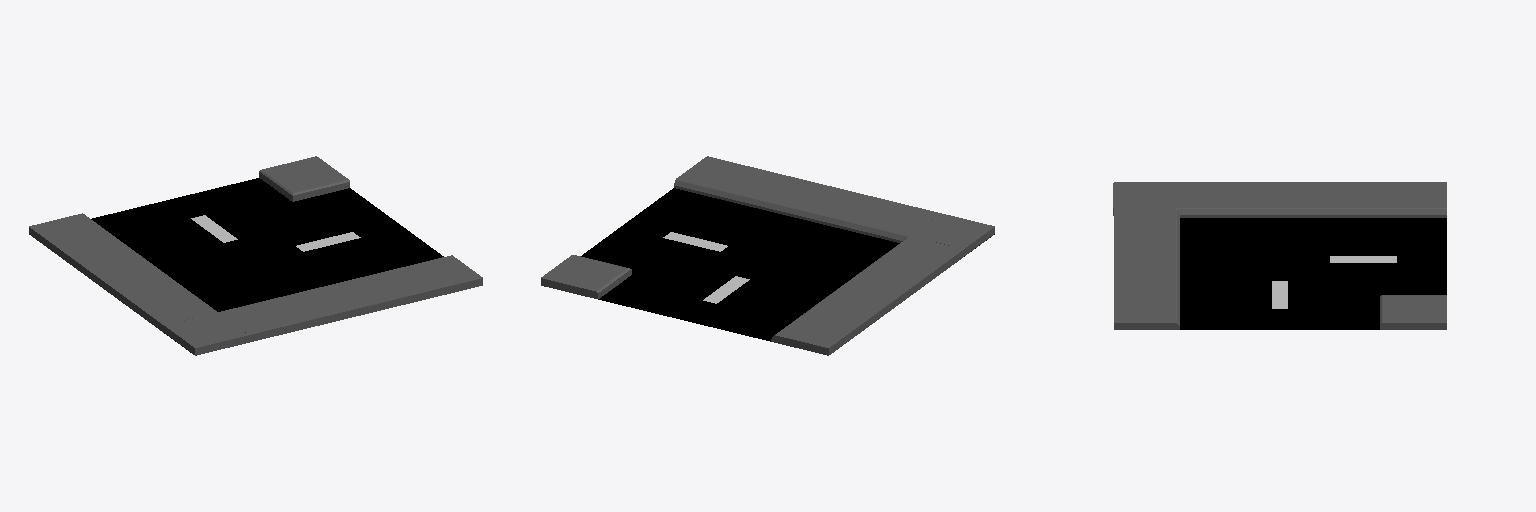
File: street_turn.obj
3 renders of one model, left to right at view 1: azimuth 30°, elevation 25°; view 2: azimuth 150°, elevation 25°; view 3: azimuth 270°, elevation 25°, orthographic.
Parts seen in each view (by area): view 1: Plane, Cube.002_Cube.011, Cube.004_Cube.006, Cube_Cube.007, Cube.001_Cube.012; view 2: Plane, Cube.002_Cube.011, Cube.004_Cube.006, Cube_Cube.007, Cube.001_Cube.012; view 3: Plane, Cube.004_Cube.006, Cube.002_Cube.011, Cube_Cube.007, Cube.001_Cube.012.
Part boxes in pixels (x1,y1,x2,y2): Plane: (91, 178, 443, 355); Cube.002_Cube.011: (218, 255, 482, 342); Cube.004_Cube.006: (29, 213, 216, 332); Cube_Cube.007: (259, 156, 349, 201); Cube.001_Cube.012: (164, 312, 248, 355); Plane: (581, 188, 994, 341); Cube.002_Cube.011: (674, 156, 940, 242); Cube.004_Cube.006: (771, 236, 963, 355); Cube_Cube.007: (541, 255, 631, 298); Cube.001_Cube.012: (911, 213, 994, 255); Plane: (1180, 218, 1446, 329); Cube.004_Cube.006: (1176, 182, 1446, 217); Cube.002_Cube.011: (1114, 208, 1179, 329); Cube_Cube.007: (1380, 295, 1446, 329); Cube.001_Cube.012: (1113, 182, 1175, 215).
Size of the model in its own units: 10 by 0.25 by 10.